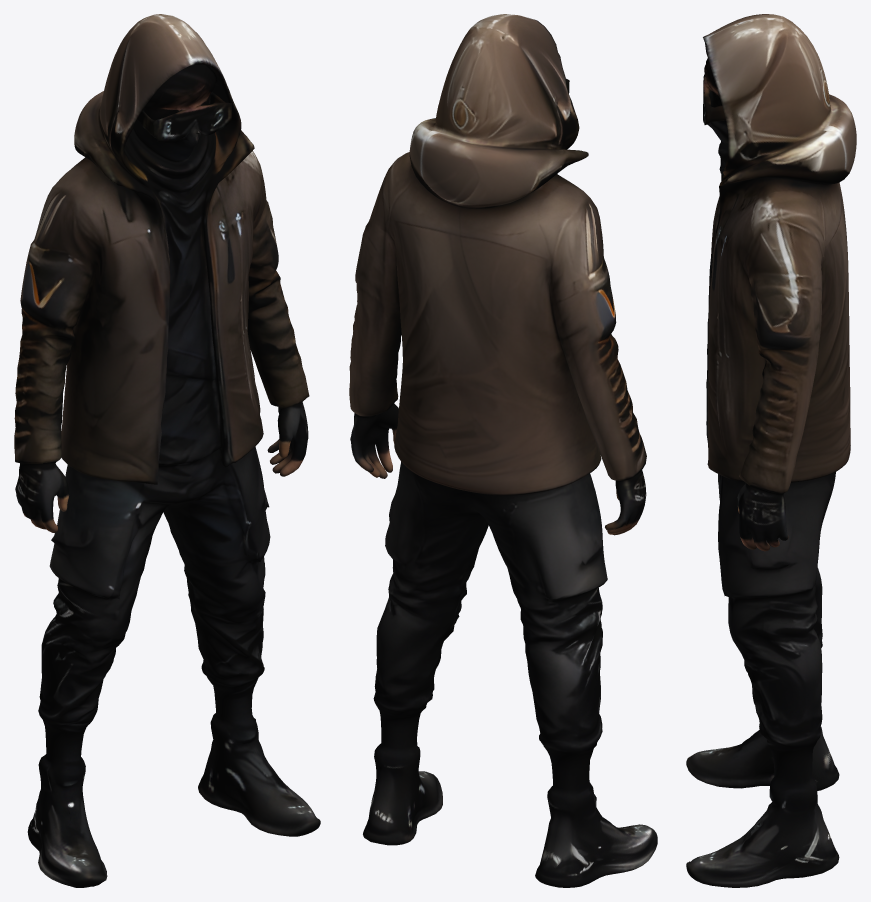
3 views of the same model, side by side, from view 1: azimuth 30°, elevation 25°; view 2: azimuth 150°, elevation 25°; view 3: azimuth 270°, elevation 25° (orthographic).
Visible parts, largest first — view 1: model; view 2: model; view 3: model.
Boxes of the visible parts, left/top/right/bottom form: model: left=14, top=14, right=320, bottom=887; model: left=349, top=14, right=657, bottom=887; model: left=686, top=14, right=856, bottom=887.
Bounding box in the file's own units: 0.629 × 1.72 × 0.3281.
Materials: 1 (1 with a texture image).
